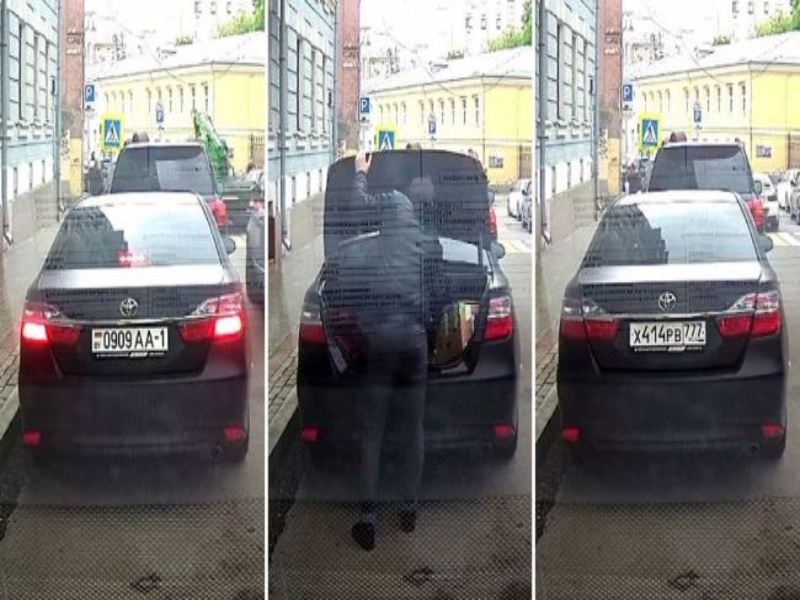car: (296, 150, 520, 459), (18, 191, 247, 465), (558, 188, 788, 459), (650, 139, 765, 246), (111, 141, 228, 240), (751, 172, 778, 230)
person: (350, 150, 446, 554)
